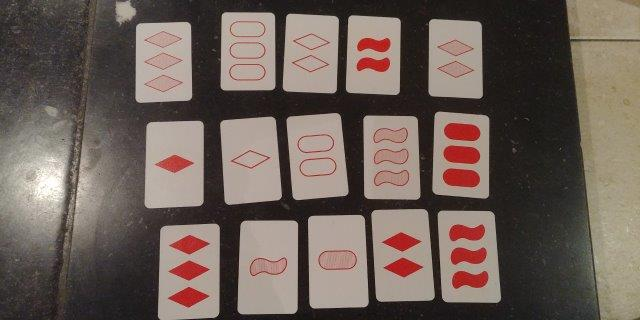1ED: (227, 123, 273, 195)
1FD: (148, 126, 200, 204)
1HP: (312, 219, 363, 303)
1HW: (243, 224, 295, 312)
2ED: (287, 16, 334, 89)
2EP: (293, 119, 340, 194)
2FD: (376, 214, 427, 298)
2FW: (350, 19, 396, 92)
2HD: (432, 22, 478, 96)
3EP: (224, 14, 273, 88)
3FD: (162, 228, 216, 315)
3FP: (437, 115, 485, 193)
3FW: (444, 214, 493, 301)
3HD: (138, 25, 189, 100)
3HW: (367, 118, 414, 197)
